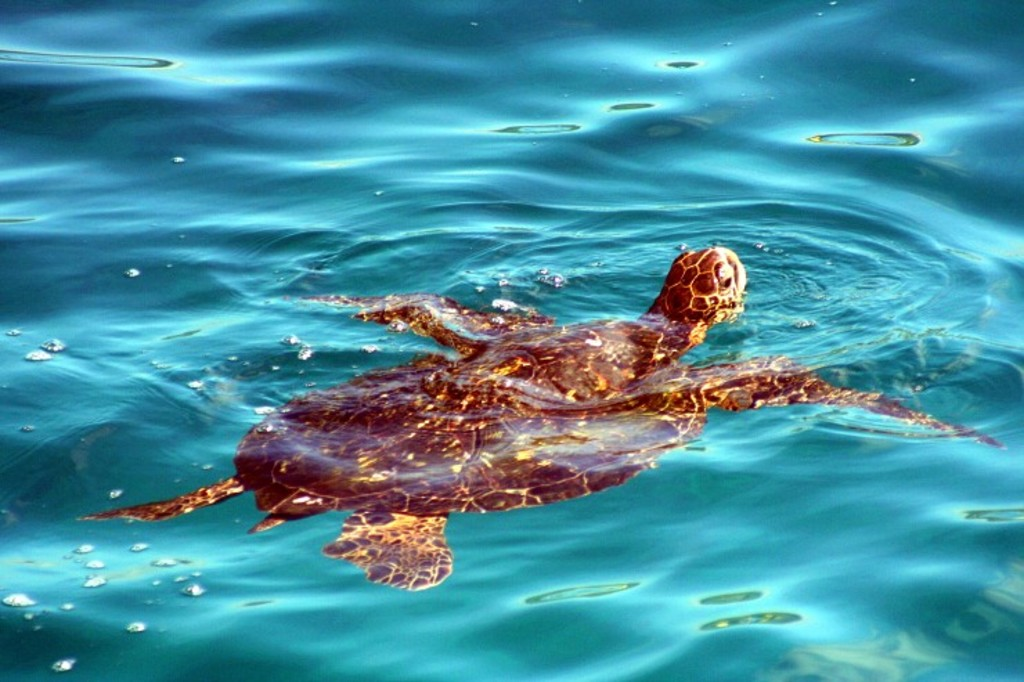Sea turtles: (85, 244, 1003, 598)
